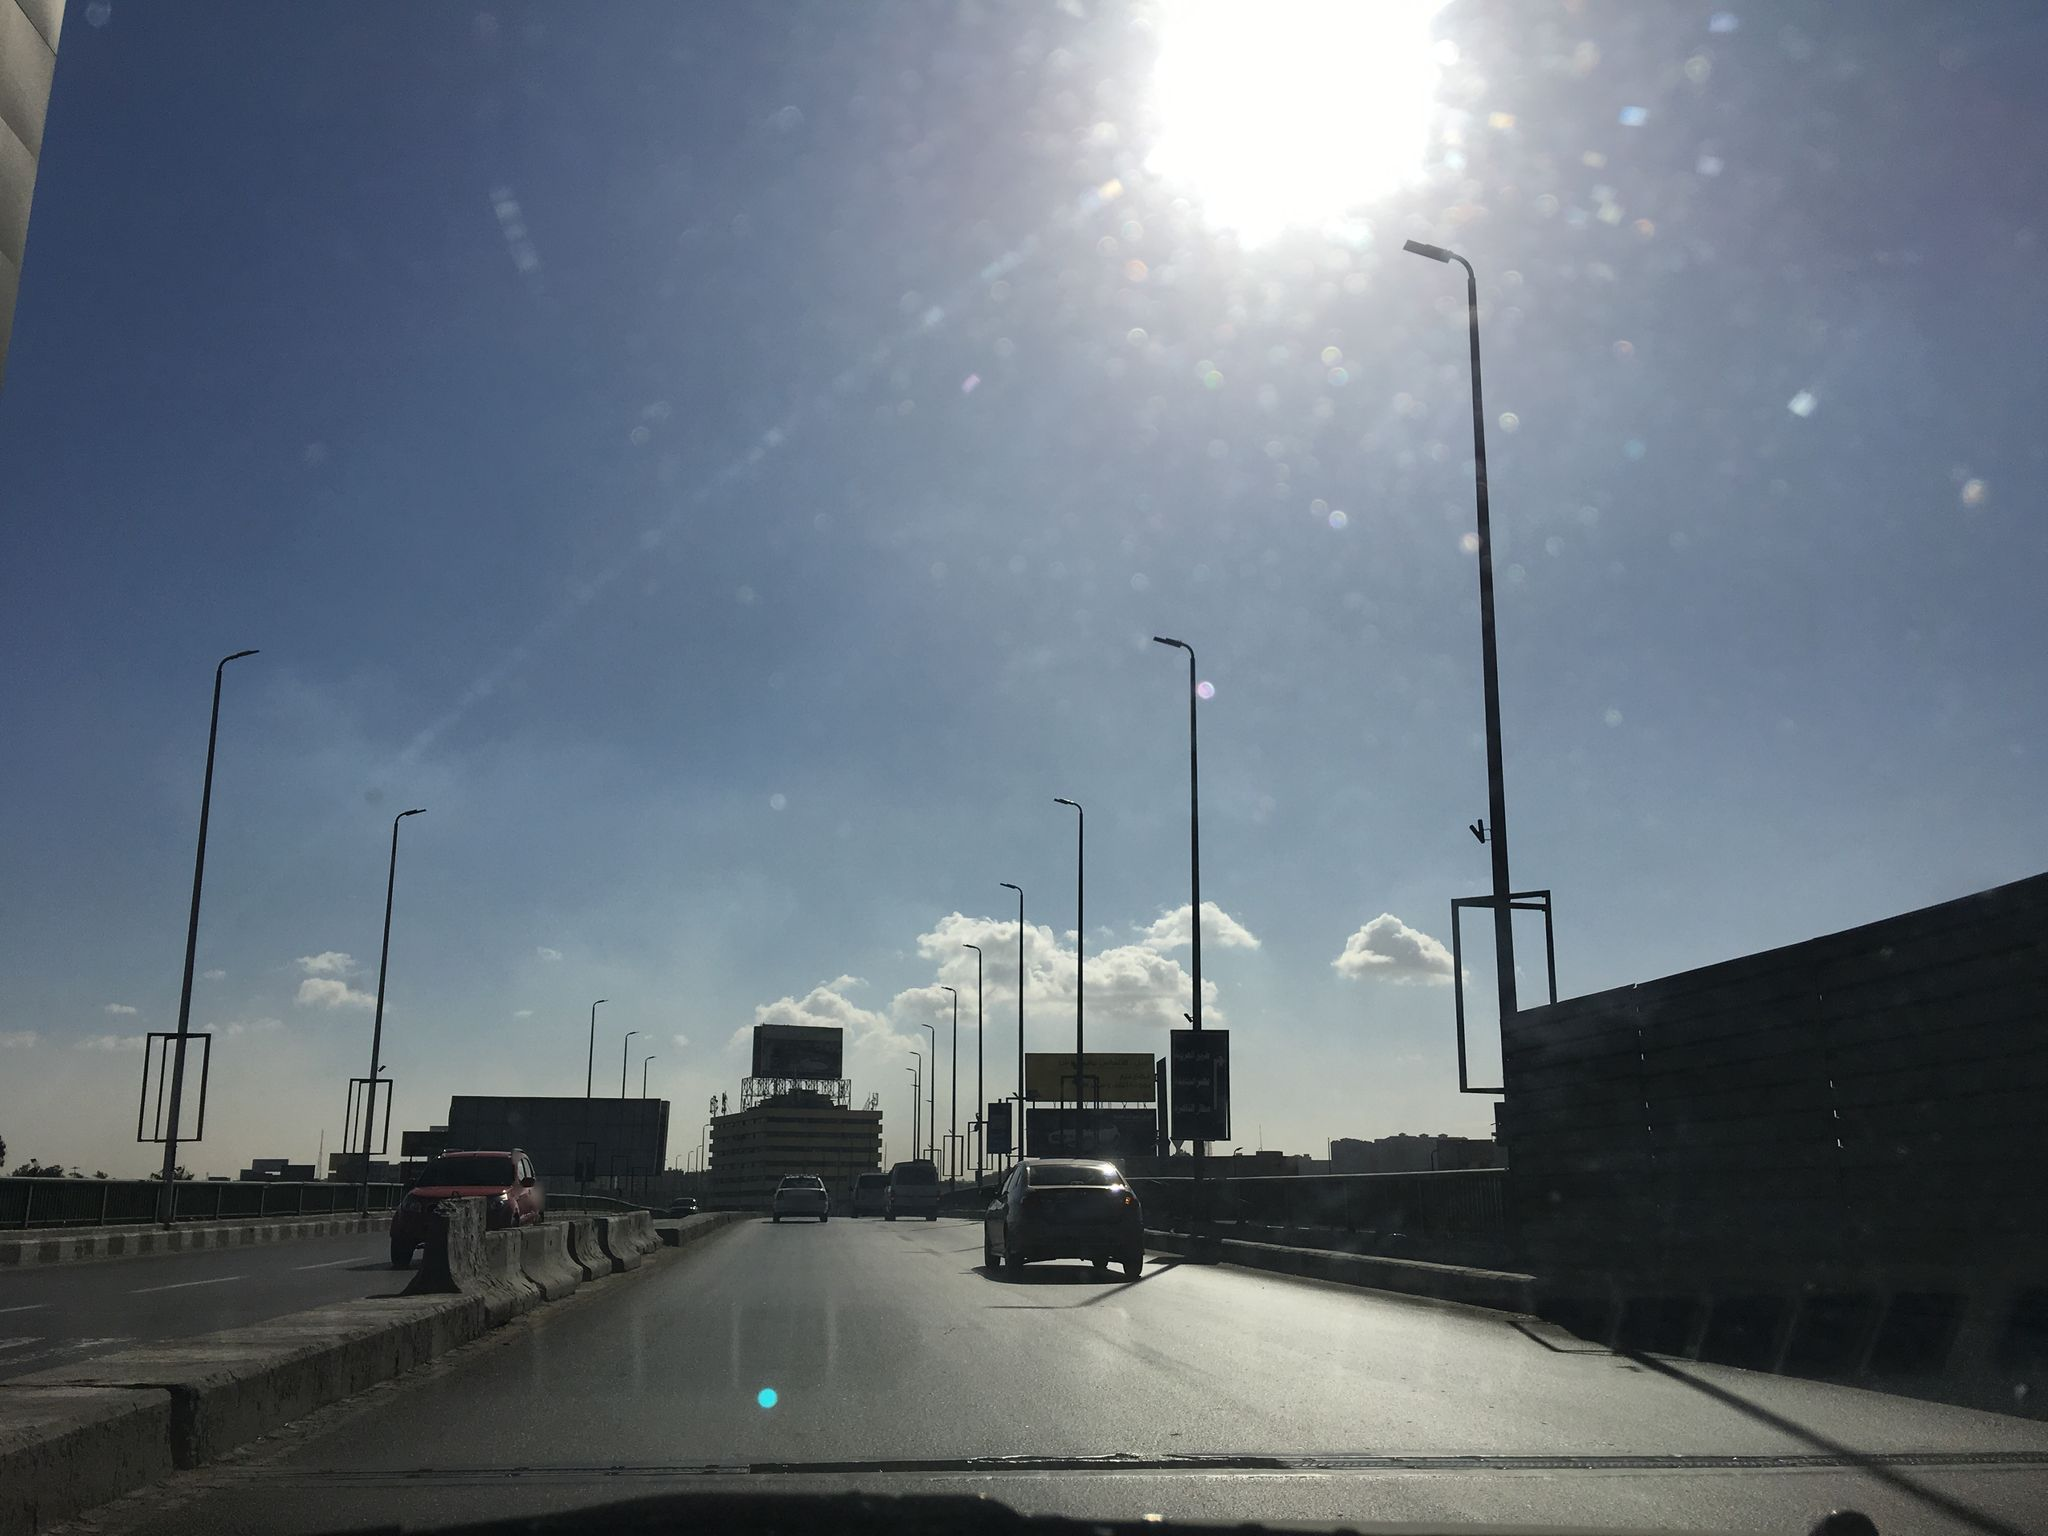car: (982, 1158, 1145, 1278), (387, 1149, 545, 1268), (884, 1158, 940, 1221), (772, 1173, 829, 1221), (848, 1171, 892, 1218), (669, 1196, 698, 1217)
